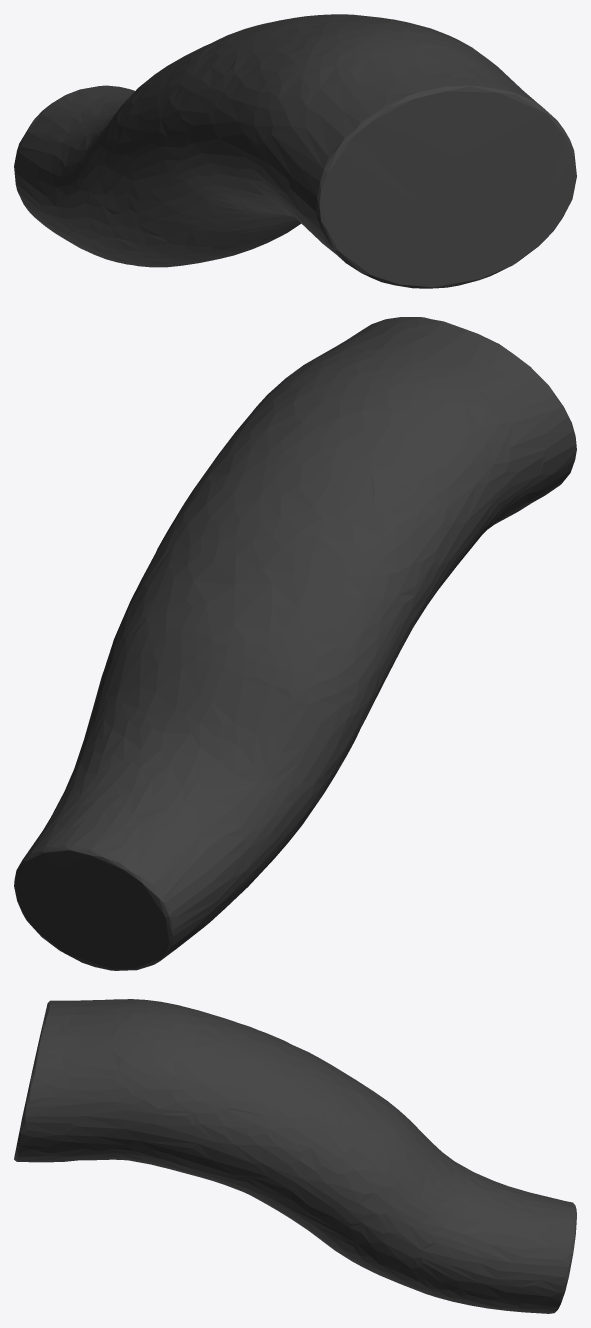
The model's file is Brainstem.glb.
3 renders of one model, top to bottom at view 1: azimuth 30°, elevation 25°; view 2: azimuth 150°, elevation 25°; view 3: azimuth 270°, elevation 25°, orthographic. The views are drawn at different scales.
Visible parts, largest first — view 1: Brainstem; view 2: Brainstem; view 3: Brainstem.
Part boxes in pixels (box(x1,y1,x2,y2)): Brainstem: box(14, 14, 576, 288); Brainstem: box(14, 317, 576, 970); Brainstem: box(14, 999, 576, 1313).
Size of the model in its own units: 0.00267 by 0.00406 by 0.00707.
1 material, 1 textured.
